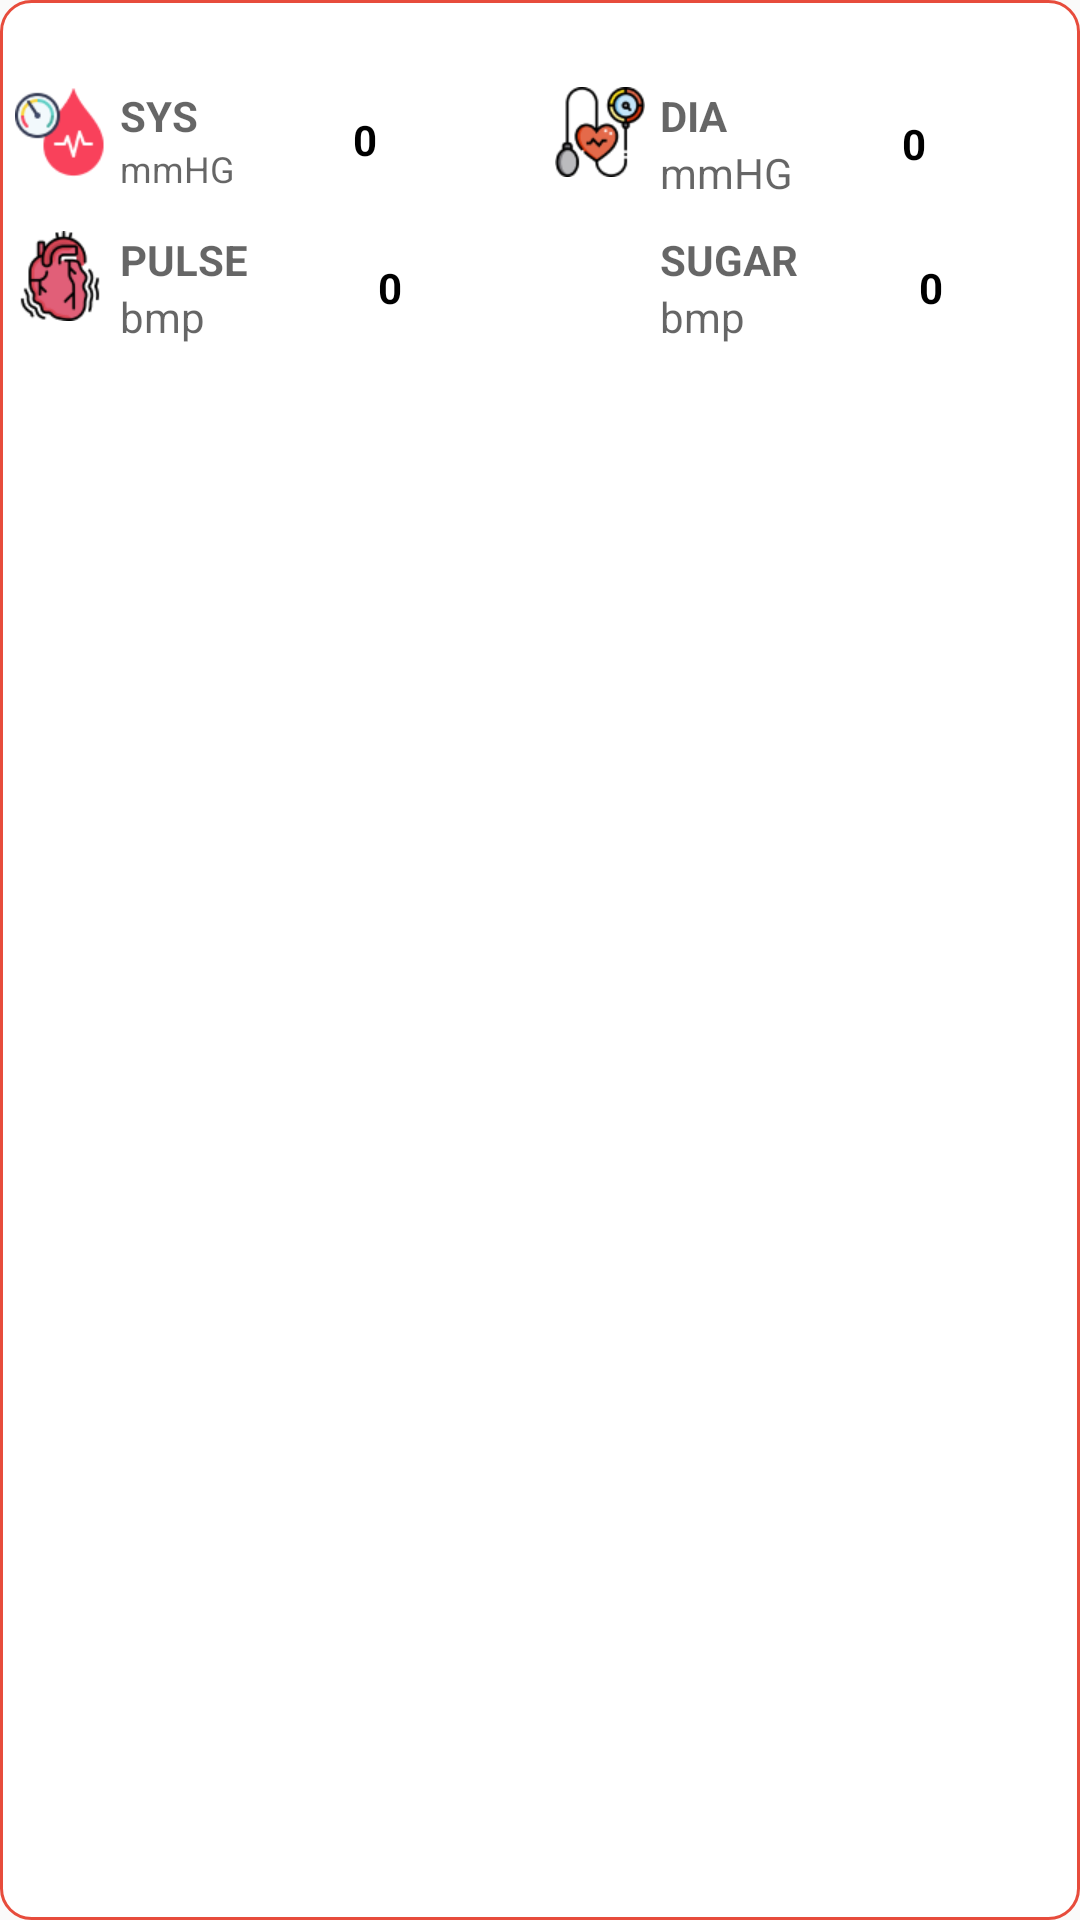

Locate icon controls on the screen. Image size 1080x1920, boxes as box=[x1, y1, x2, y2].
heart thermo: box=[555, 87, 645, 177]
heaty actual: box=[20, 231, 100, 321]
